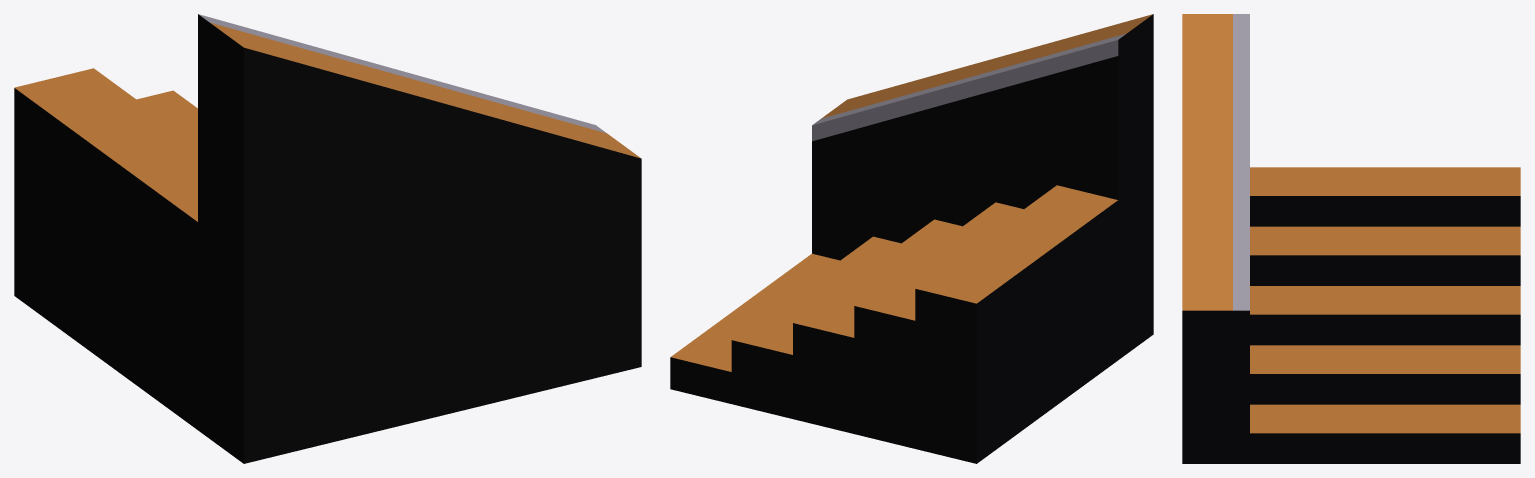
The model's file is Ledge_Stairs_LRG_L.obj.
3 views of the same model, side by side, from view 1: azimuth 30°, elevation 25°; view 2: azimuth 150°, elevation 25°; view 3: azimuth 270°, elevation 25° (orthographic). The views are drawn at different scales.
Visible parts, largest first — view 1: Ledge_Stairs_LRG_L; view 2: Ledge_Stairs_LRG_L; view 3: Ledge_Stairs_LRG_L.
Boxes of the visible parts, x1,y1,x2,y2 form: Ledge_Stairs_LRG_L: [14, 14, 641, 463]; Ledge_Stairs_LRG_L: [670, 14, 1153, 463]; Ledge_Stairs_LRG_L: [1182, 14, 1520, 463].
Size of the model in its own units: 10 by 10 by 10.
